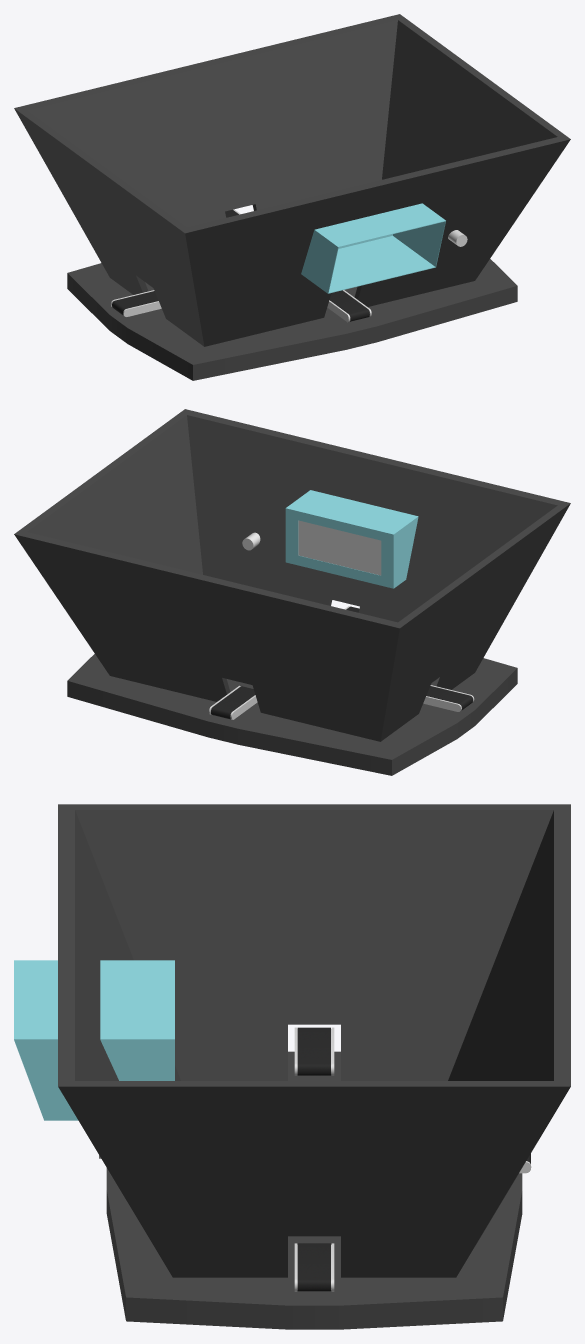
Rendered from st_tset_2.FBX.
3 views of the same model, one above another, from view 1: azimuth 30°, elevation 25°; view 2: azimuth 150°, elevation 25°; view 3: azimuth 270°, elevation 25° (orthographic). The views are drawn at different scales.
Parts seen in each view (by area): view 1: Box001, Box002 (×2), Box009; view 2: Box001, Box002, Box003, Box005, Box009; view 3: Box001, Box002, Box009, Box007.
Boxes of the visible parts, box(x1,y1,x2,y2) form: Box001: box(14, 14, 570, 380); Box002 (×2): box(301, 203, 445, 321); Box009: box(112, 291, 158, 315); Box001: box(14, 409, 570, 775); Box002: box(285, 490, 418, 588); Box003: box(298, 520, 381, 575); Box005: box(211, 686, 255, 719); Box009: box(426, 686, 472, 710); Box001: box(58, 804, 570, 1329); Box002: box(14, 960, 174, 1120); Box009: box(297, 1027, 330, 1075); Box007: box(297, 1243, 330, 1291).
Size of the model in its own units: 5047 by 2145 by 4209.
3 materials, 1 textured.
